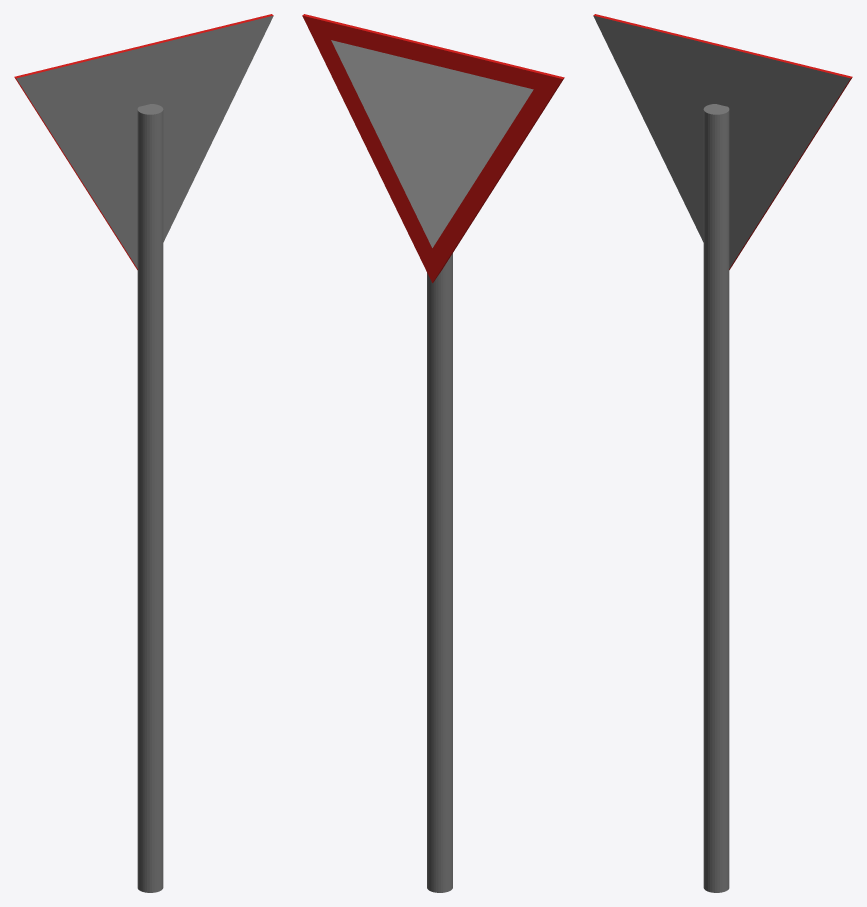
File: GiveWay.fbx
The picture shows the model from 3 angles, left to right: view 1: azimuth 30°, elevation 25°; view 2: azimuth 150°, elevation 25°; view 3: azimuth 330°, elevation 25°; orthographic projection.
Visible parts, largest first — view 1: GiveWay; view 2: GiveWay; view 3: GiveWay.
Boxes of the visible parts, x1,y1,x2,y2 form: GiveWay: (14,14,273,892); GiveWay: (302,14,564,892); GiveWay: (593,14,852,892).
Bounding box in the file's own units: 6.5 × 215 × 69.28.
